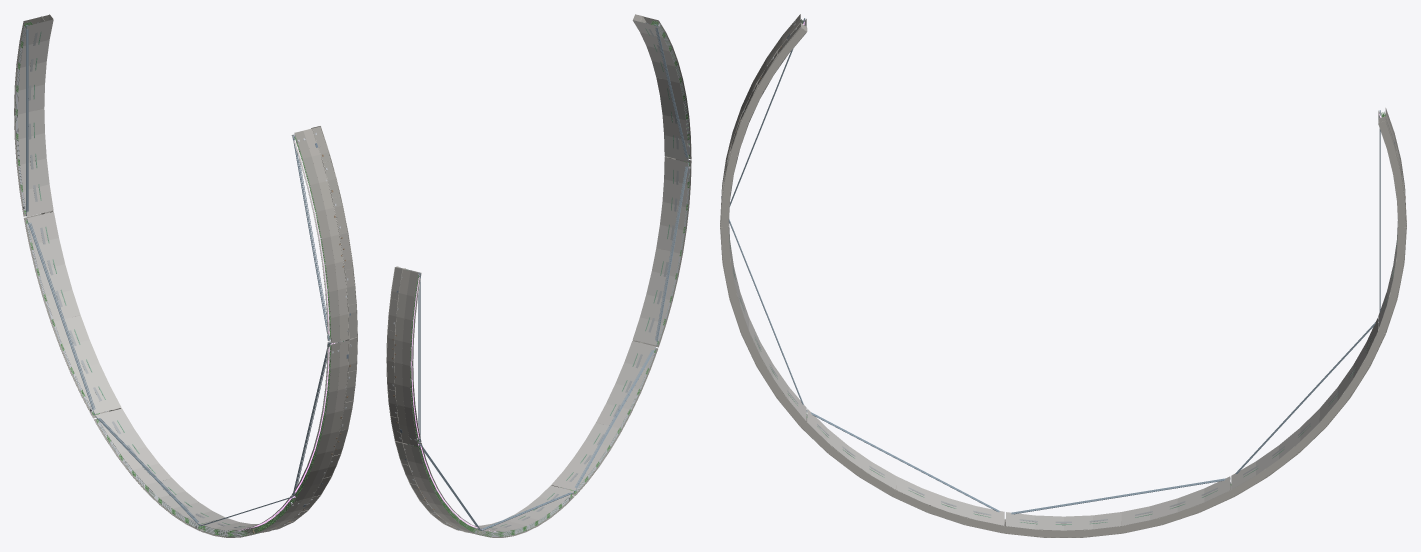
File: xuanshu_interior_C50.glb
3 renders of one model, left to right at view 1: azimuth 30°, elevation 25°; view 2: azimuth 150°, elevation 25°; view 3: azimuth 270°, elevation 25°, orthographic. The views are drawn at different scales.
Visible parts, largest first — view 1: UNIT-AGR-006, UNIT-AGR-005; view 2: UNIT-AGR-005, UNIT-AGR-006; view 3: UNIT-AGR-006, UNIT-AGR-005.
Boxes of the visible parts, x1,y1,x2,y2 form: UNIT-AGR-006: (14, 14, 225, 530); UNIT-AGR-005: (200, 126, 357, 537); UNIT-AGR-005: (551, 14, 691, 495); UNIT-AGR-006: (386, 266, 574, 537); UNIT-AGR-006: (1004, 108, 1406, 537); UNIT-AGR-005: (720, 14, 1005, 533).
Bounding box in the file's own units: 13.31 × 226 × 275.
